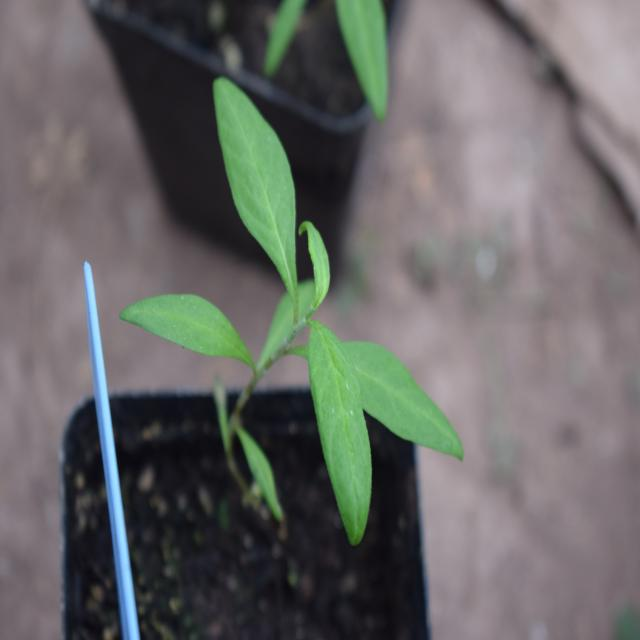white_smart_weed: (159, 86, 471, 542)
